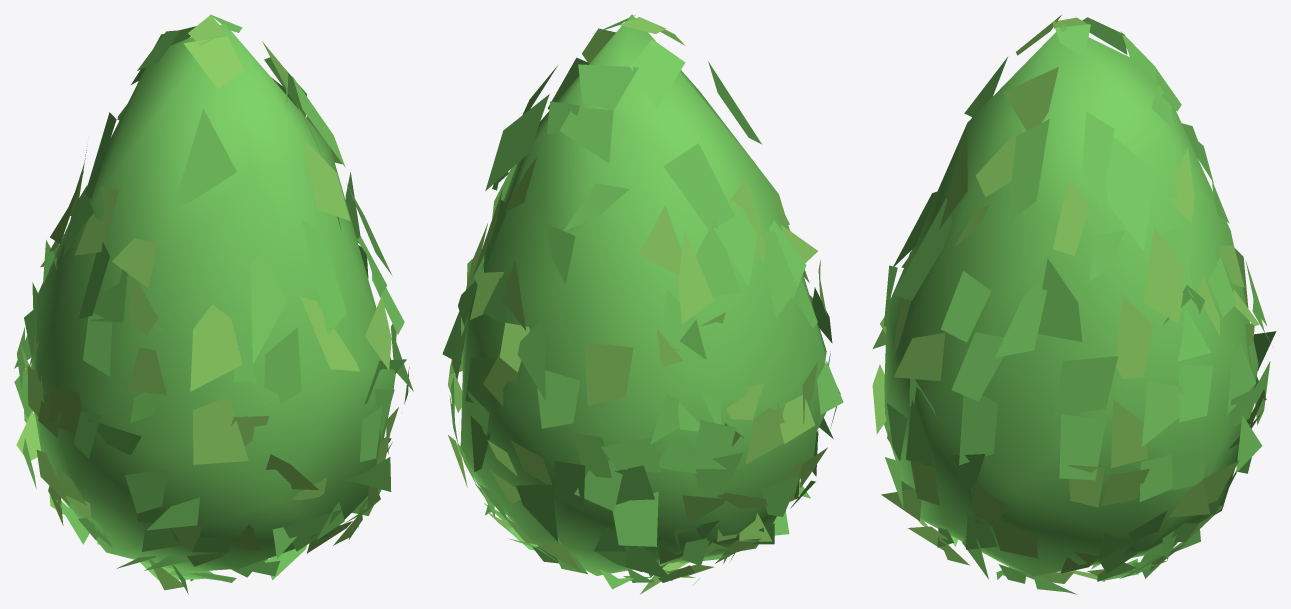
The model's file is Bush_Tall_Rectangle.fbx.
The picture shows the model from 3 angles, left to right: view 1: azimuth 30°, elevation 25°; view 2: azimuth 150°, elevation 25°; view 3: azimuth 270°, elevation 25°; orthographic projection.
Parts seen in each view (by area): view 1: Bush.003; view 2: Bush.003; view 3: Bush.003.
Part boxes in pixels (x1,y1,x2,y2): Bush.003: [14, 14, 413, 594]; Bush.003: [442, 14, 843, 594]; Bush.003: [872, 15, 1276, 594].
Bounding box in the file's own units: 183 × 280 × 185.
